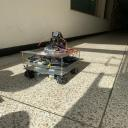cart: (20, 47, 80, 85)
